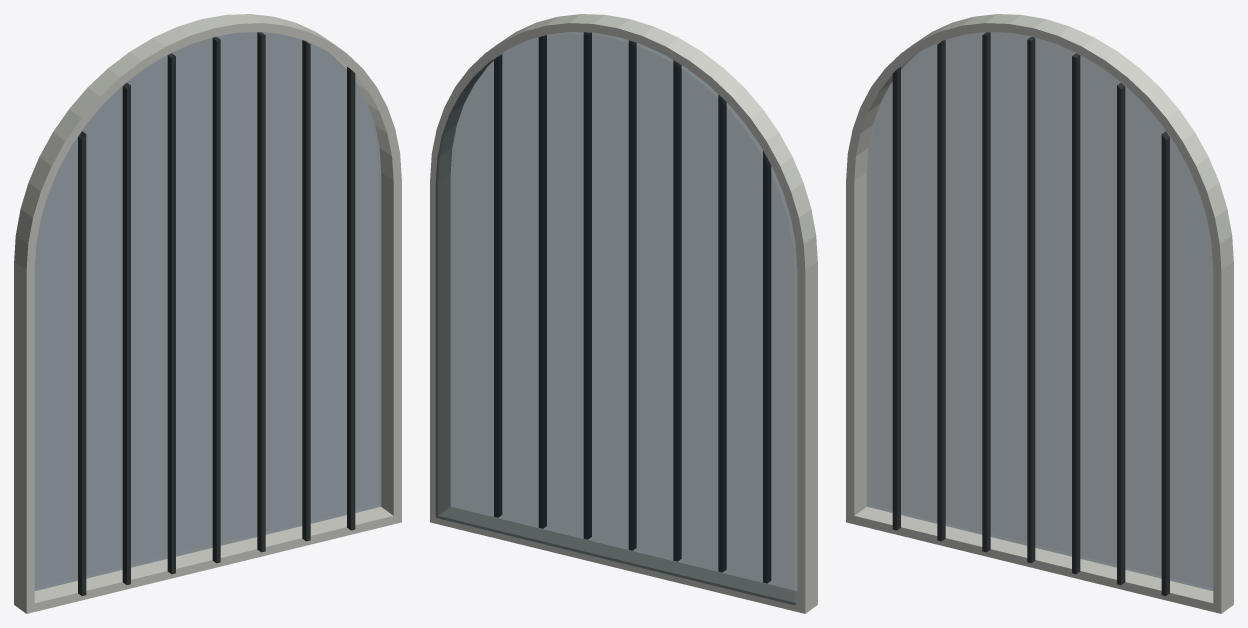
The model's file is moderno_arch_con_reja.glb.
3 renders of one model, left to right at view 1: azimuth 30°, elevation 25°; view 2: azimuth 150°, elevation 25°; view 3: azimuth 330°, elevation 25°, orthographic.
Parts seen in each view (by area): view 1: window_glass#0001, window_reveal#0001, window_grille#0001; view 2: window_glass#0001, window_reveal#0001, window_grille#0001; view 3: window_glass#0001, window_reveal#0001, window_grille#0001, window_profile#0008.
Boxes of the visible parts, x1,y1,x2,y2 form: window_glass#0001: [34, 32, 381, 590]; window_reveal#0001: [14, 14, 401, 613]; window_grille#0001: [78, 32, 355, 595]; window_glass#0001: [435, 32, 797, 604]; window_reveal#0001: [430, 14, 817, 613]; window_grille#0001: [494, 32, 770, 583]; window_glass#0001: [866, 32, 1213, 590]; window_reveal#0001: [846, 14, 1233, 613]; window_grille#0001: [892, 32, 1169, 595]; window_profile#0008: [932, 22, 1222, 612].
Size of the model in its own units: 1.6 by 2.2 by 0.145.
